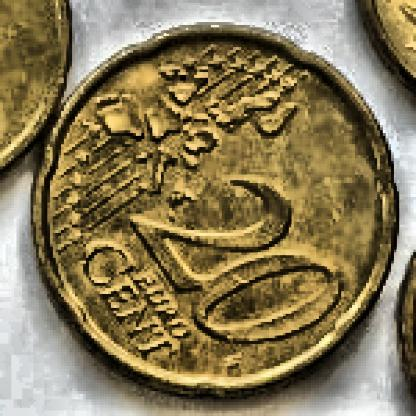coin: (32, 21, 399, 398)
